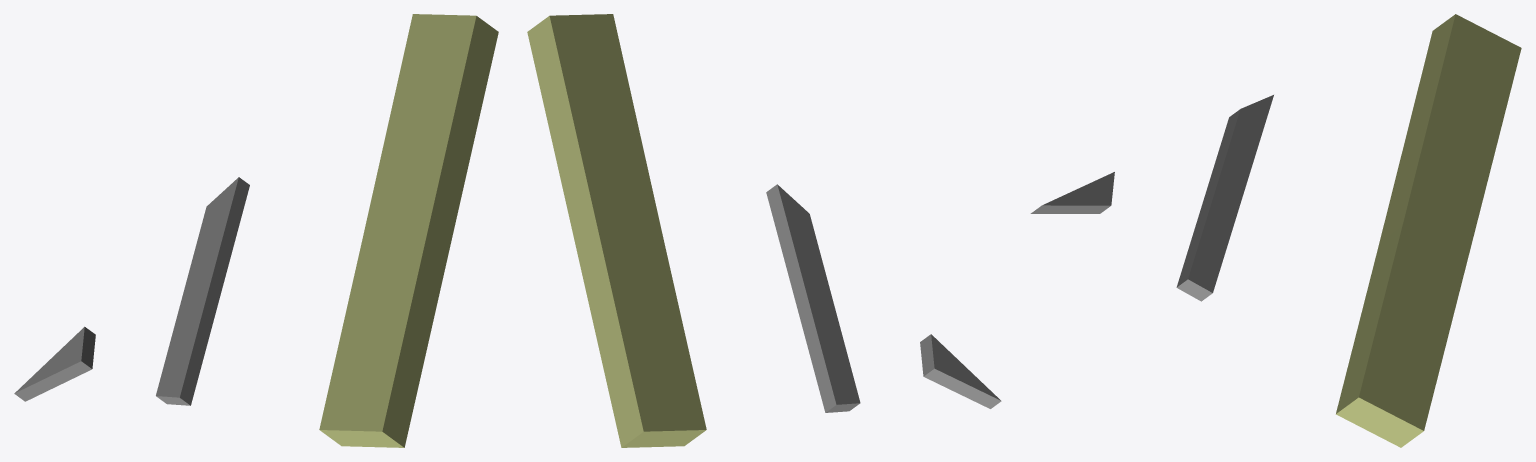
The picture shows the model from 3 angles, left to right: view 1: azimuth 30°, elevation 25°; view 2: azimuth 150°, elevation 25°; view 3: azimuth 330°, elevation 25°; orthographic projection. The views are drawn at different scales.
Visible parts, largest first — view 1: 0_2_2_0_3_3_0_1; view 2: 0_2_2_0_3_3_0_1; view 3: 0_2_2_0_3_3_0_1.
Part boxes in pixels (x1,y1,x2,y2): 0_2_2_0_3_3_0_1: (14, 14, 498, 447); 0_2_2_0_3_3_0_1: (527, 14, 1001, 447); 0_2_2_0_3_3_0_1: (1030, 14, 1521, 447).
Size of the model in its own units: 71.95 by 60.94 by 6.
